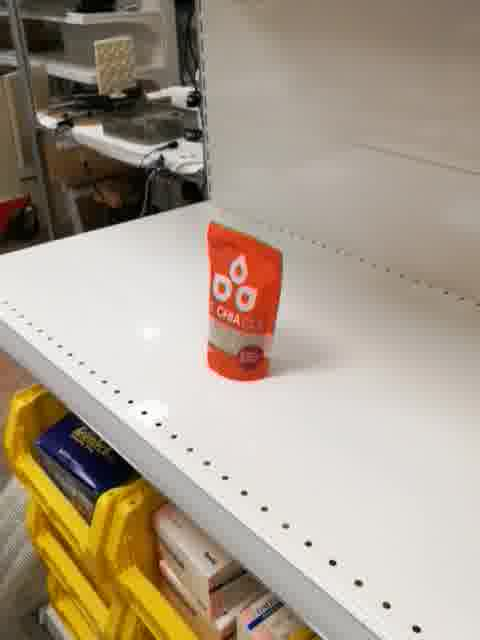whitechia: (206, 218, 286, 382)
